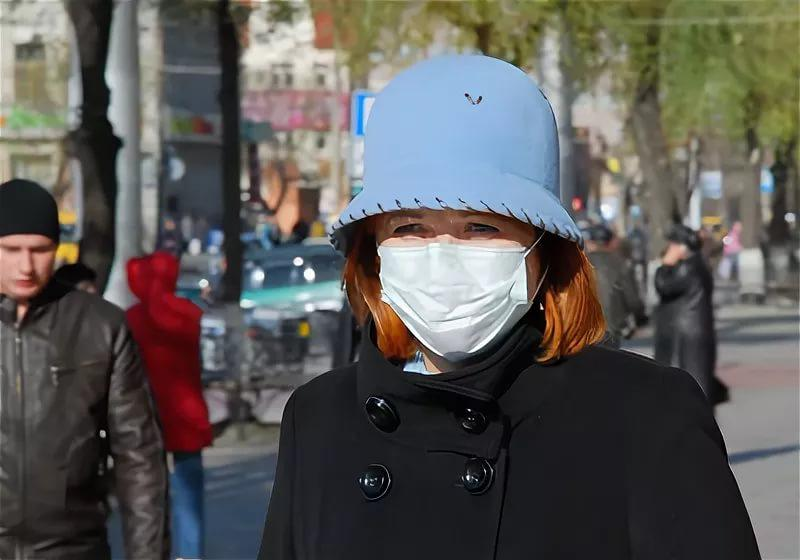mask: (372, 196, 536, 342)
none: (2, 224, 53, 292)
